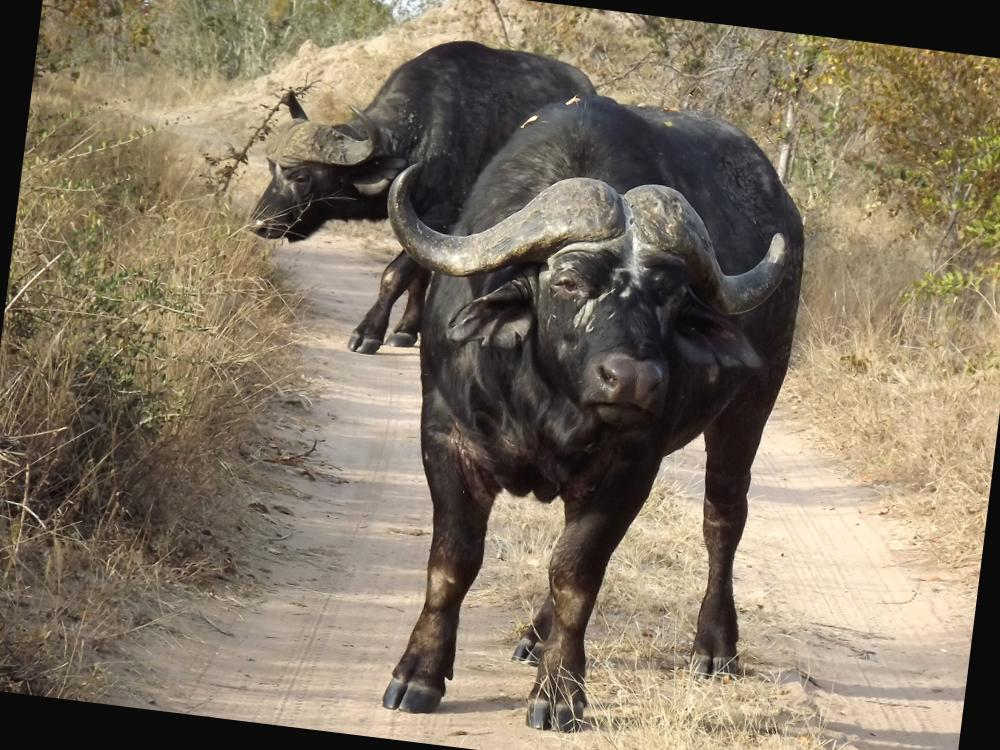Buffalo: (193, 16, 972, 750)
